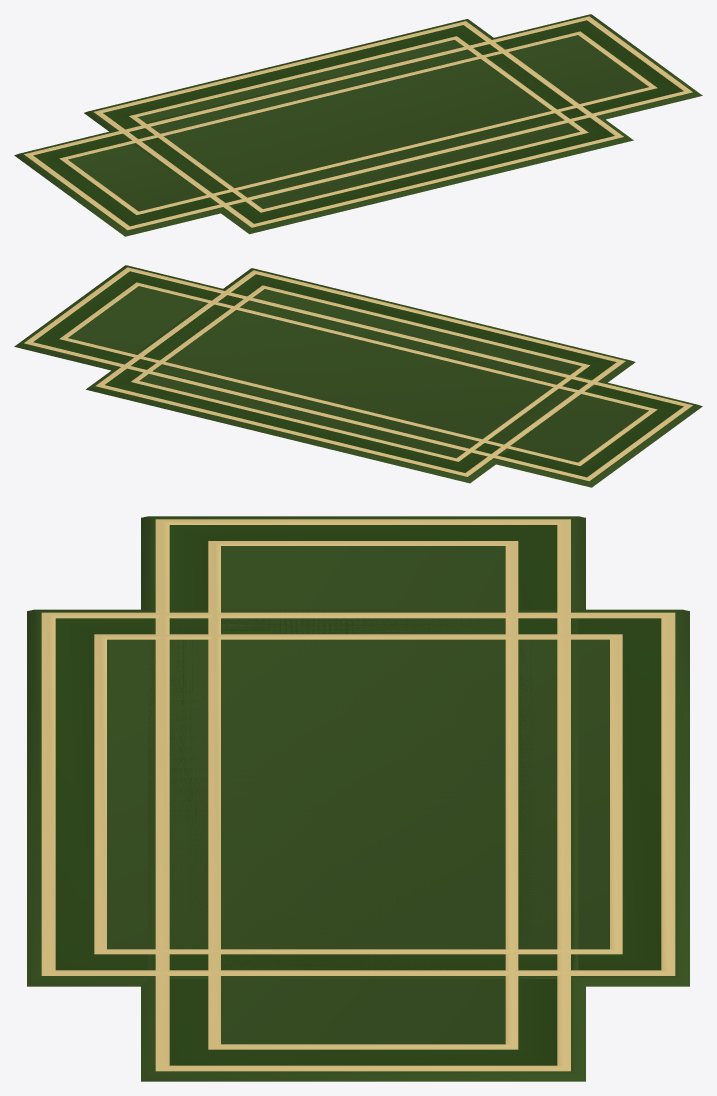
File: Rectangle_Rug.fbx
3 views of the same model, one above another, from view 1: azimuth 30°, elevation 25°; view 2: azimuth 150°, elevation 25°; view 3: azimuth 270°, elevation 25° (orthographic). The views are drawn at different scales.
Parts seen in each view (by area): view 1: Rectangle Rug, Plane; view 2: Plane, Rectangle Rug; view 3: Rectangle Rug, Plane.
Part boxes in pixels (left/top/right/bottom): Rectangle Rug: left=84, top=19, right=633, bottom=234; Plane: left=14, top=14, right=702, bottom=236; Plane: left=14, top=265, right=702, bottom=487; Rectangle Rug: left=86, top=268, right=635, bottom=483; Rectangle Rug: left=27, top=609, right=689, bottom=986; Plane: left=141, top=516, right=585, bottom=1081.
Bounding box in the file's own units: 600 × 2.91 × 298.
